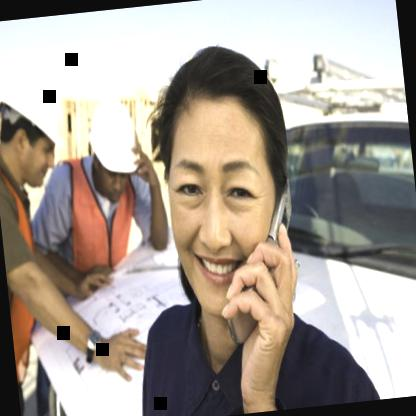head: (140, 33, 316, 329)
helmet: (0, 57, 70, 191), (85, 100, 143, 198)
